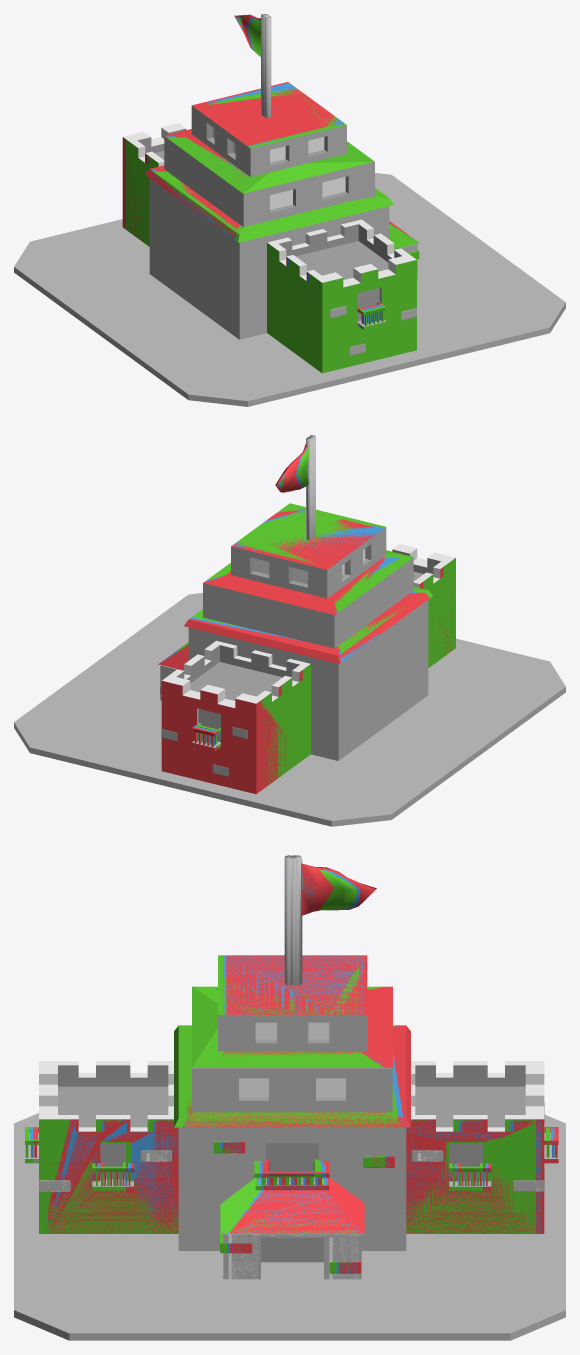
The model's file is destroyedcastle3.fbx.
3 views of the same model, one above another, from view 1: azimuth 30°, elevation 25°; view 2: azimuth 150°, elevation 25°; view 3: azimuth 270°, elevation 25° (orthographic). The views are drawn at different scales.
Parts seen in each view (by area): view 1: redbasecastelevel3, castlelevel3green, castlelevel3red, castlelevel3blue; view 2: castlelevel3red, redbasecastelevel3, castlelevel3green, castlelevel3blue; view 3: castlelevel3red, castlelevel3green, redbasecastelevel3, castlelevel3blue.
Part boxes in pixels (box(x1,y1,x2,y2)): redbasecastelevel3: box(14, 173, 565, 406); castlelevel3green: box(126, 16, 419, 373); castlelevel3red: box(122, 14, 414, 336); castlelevel3blue: box(124, 15, 405, 337); castlelevel3red: box(158, 437, 452, 794); redbasecastelevel3: box(14, 593, 565, 826); castlelevel3green: box(165, 435, 455, 783); castlelevel3blue: box(162, 436, 452, 748); castlelevel3red: box(33, 855, 558, 1279); castlelevel3green: box(25, 855, 550, 1279); redbasecastelevel3: box(14, 1113, 565, 1340); castlelevel3blue: box(30, 855, 555, 1279).
Size of the model in its own units: 627 by 442 by 627.
